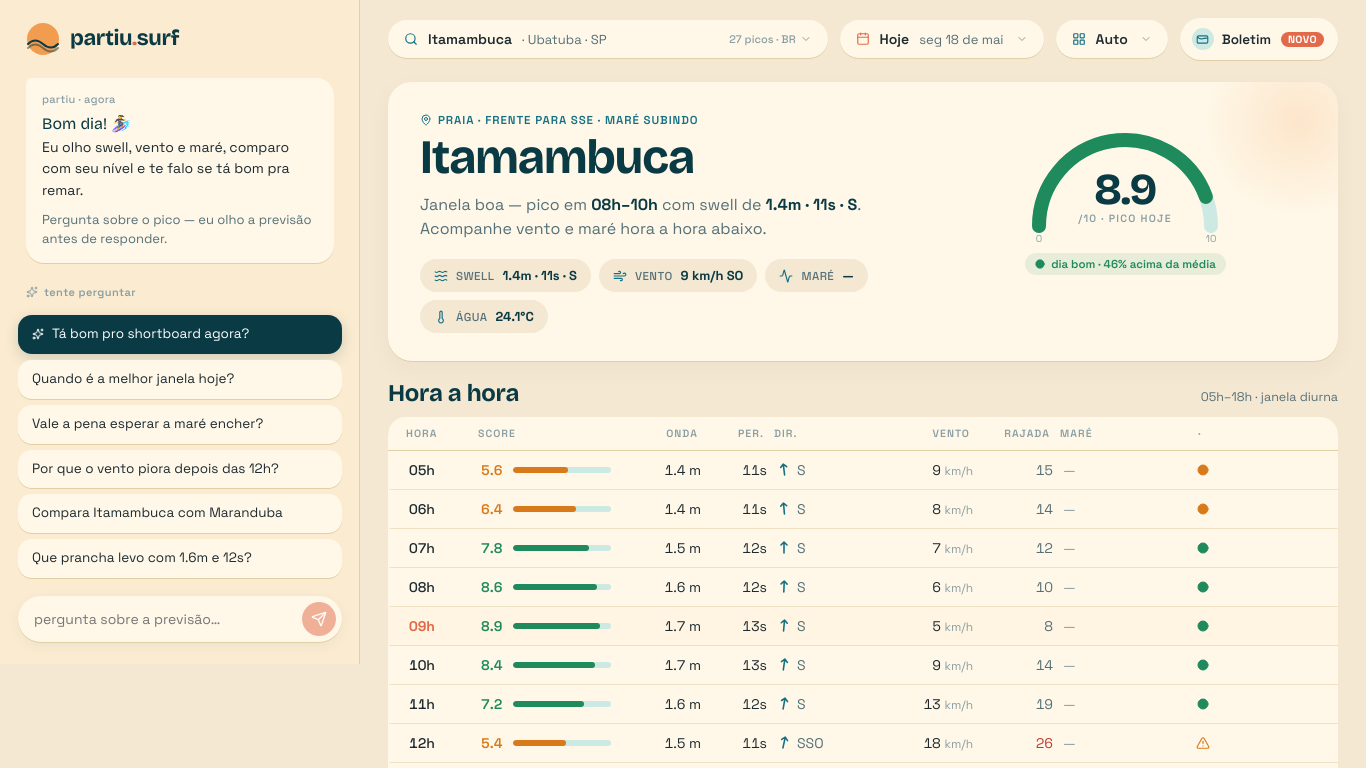
it: <Desktop /> chat › renders an amber rate-limit bubble on 429
Step 1. Type "spam" into the field with placeholder "pergunta sobre a previsão…" → coordinates (163, 619), box [34,602,292,636]
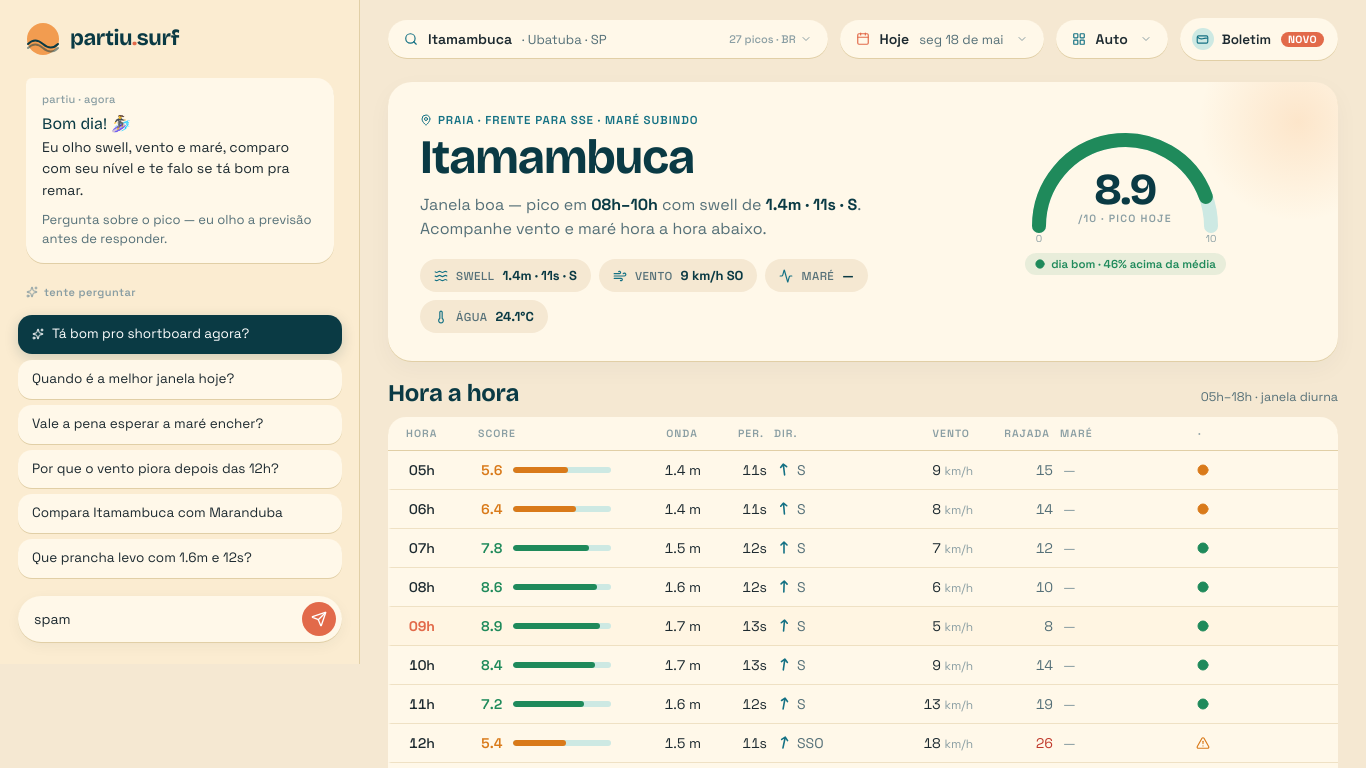
Step 2. Submit the form with placeholder "pergunta sobre a previsão…", box [18,596,342,642]
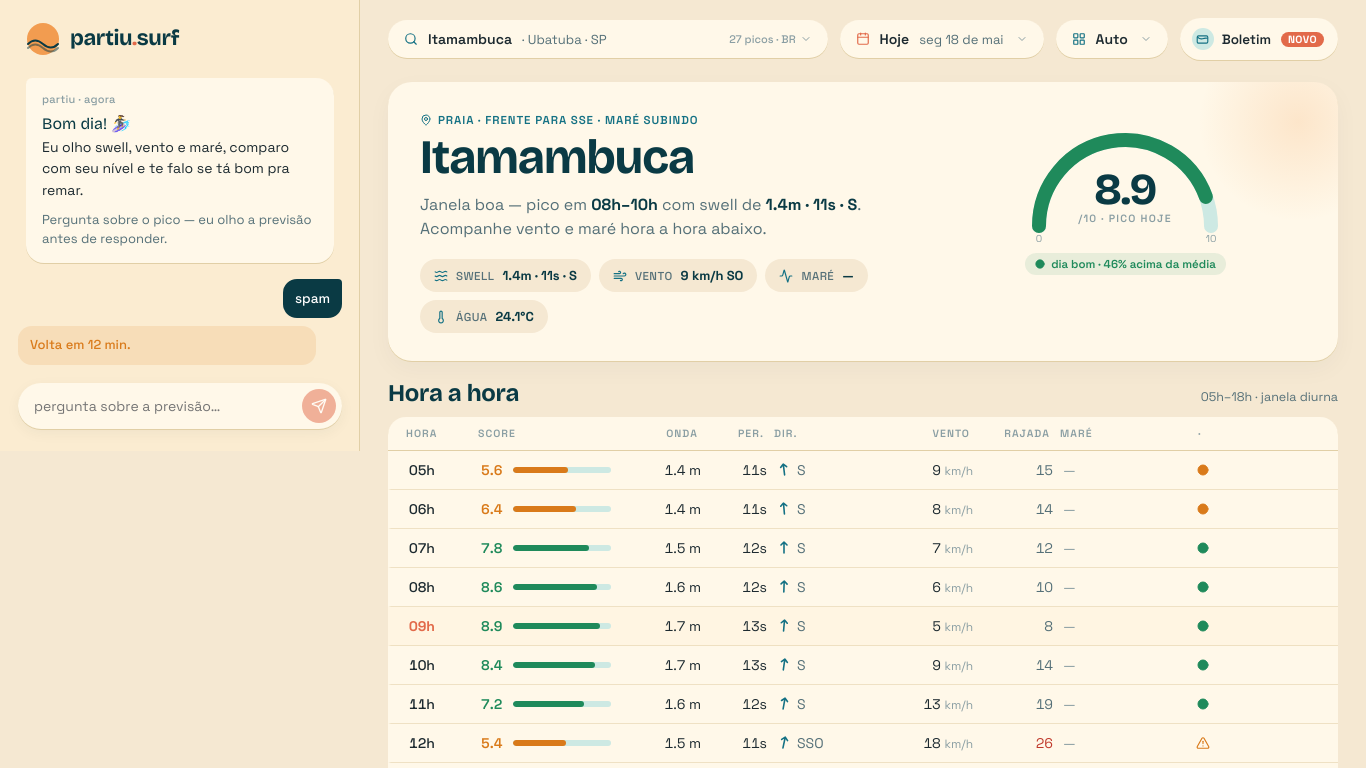
expect the text with test id "chat-error-rate_limit" reads "Volta em 12 min.": met, box [30,336,130,353]
